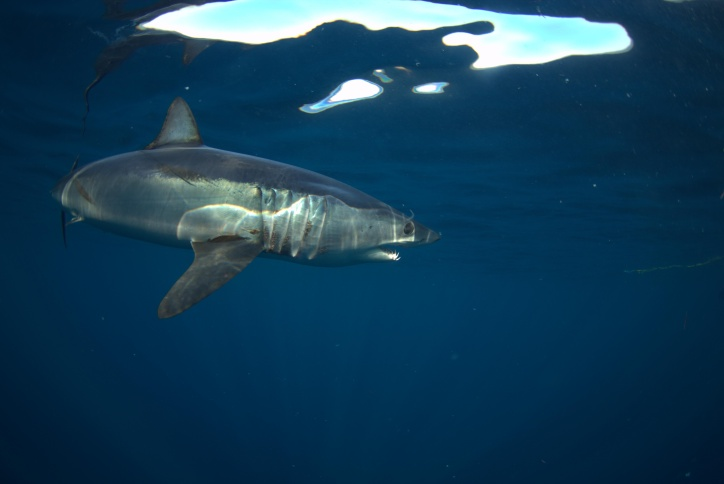Mako: (40, 95, 456, 317)
